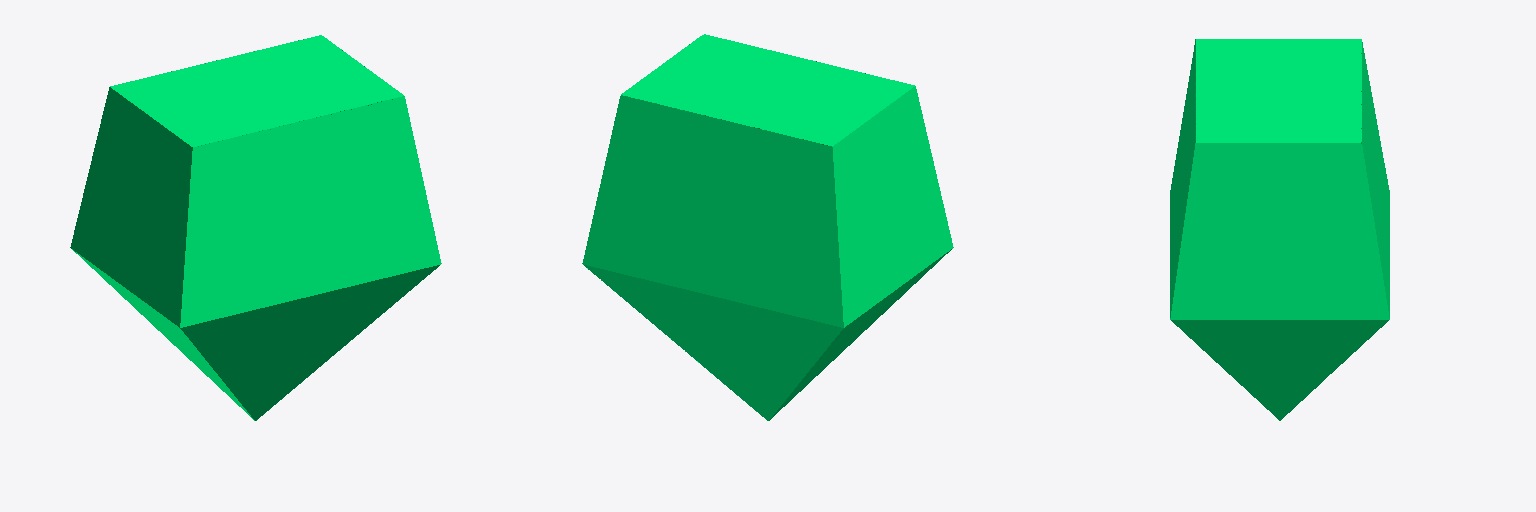
The picture shows the model from 3 angles: view 1: azimuth 30°, elevation 25°; view 2: azimuth 150°, elevation 25°; view 3: azimuth 270°, elevation 25°; orthographic projection.
Visible parts, largest first — view 1: body; view 2: body; view 3: body.
Part boxes in pixels (x1,y1,x2,y2): body: (70,35,441,420); body: (582,34,953,420); body: (1170,39,1389,420).
Bounding box in the file's own units: 0.88 × 1.06 × 0.64.
1 materials, 1 textured.